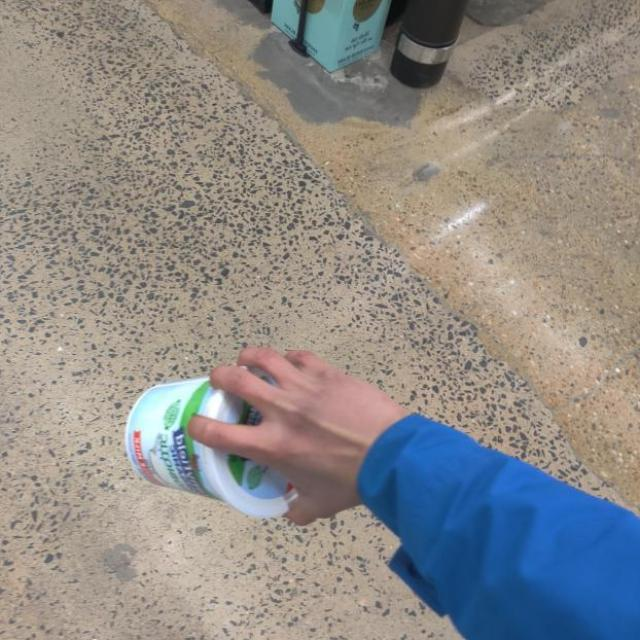Yogurt: (106, 355, 331, 519)
